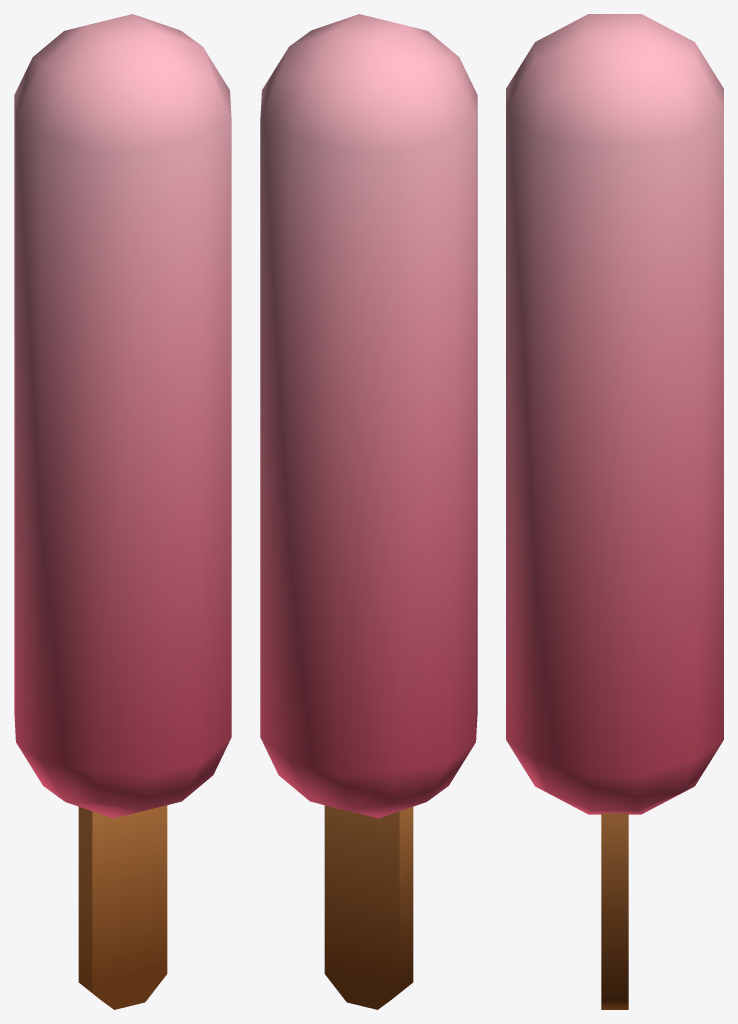
File: m_PopsicleStick01.fbx
3 renders of one model, left to right at view 1: azimuth 30°, elevation 25°; view 2: azimuth 150°, elevation 25°; view 3: azimuth 270°, elevation 25°, orthographic.
Visible parts, largest first — view 1: m_PopsicleStick01; view 2: m_PopsicleStick01; view 3: m_PopsicleStick01.
Part boxes in pixels (x1,y1,x2,y2): m_PopsicleStick01: (14,14,231,1009); m_PopsicleStick01: (260,14,477,1009); m_PopsicleStick01: (506,14,723,1009).
Size of the model in its own units: 4.64 by 22.99 by 4.64.
